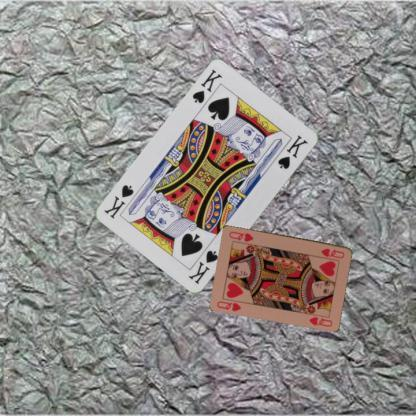Ks: (190, 66, 224, 106), (186, 248, 219, 286)
Qh: (214, 298, 243, 313), (318, 245, 346, 260)
